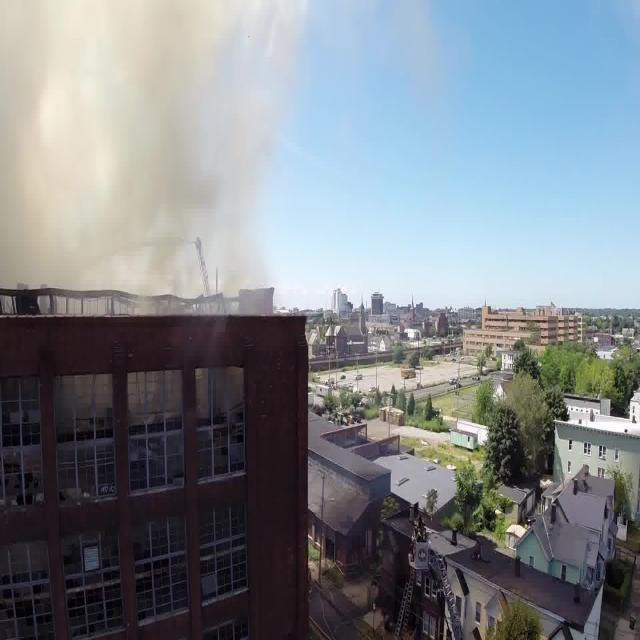Smoke: (3, 0, 275, 293)
